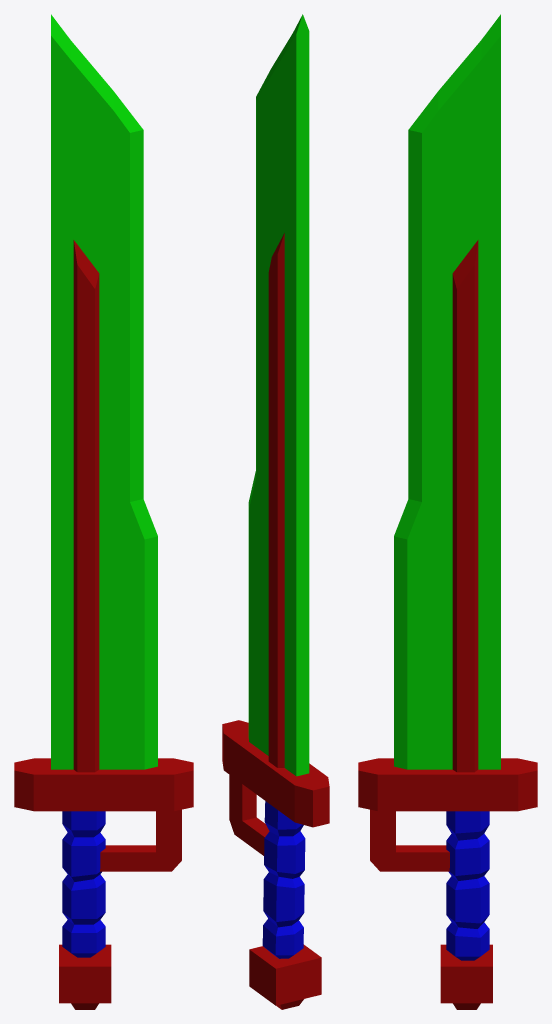
The model's file is Greatsword_Common_Buster.fbx.
3 renders of one model, left to right at view 1: azimuth 90°, elevation 25°; view 2: azimuth 210°, elevation 25°; view 3: azimuth 270°, elevation 25°, orthographic.
Parts seen in each view (by area): view 1: SM_Wep_GreatSword_01; view 2: SM_Wep_GreatSword_01; view 3: SM_Wep_GreatSword_01.
Part boxes in pixels (x1=…): SM_Wep_GreatSword_01: x1=14, y1=14, x2=193, y2=1009; SM_Wep_GreatSword_01: x1=222, y1=14, x2=329, y2=1009; SM_Wep_GreatSword_01: x1=358, y1=14, x2=537, y2=1009.
Bounding box in the file's own units: 0.0729 × 1.52 × 0.2489.
